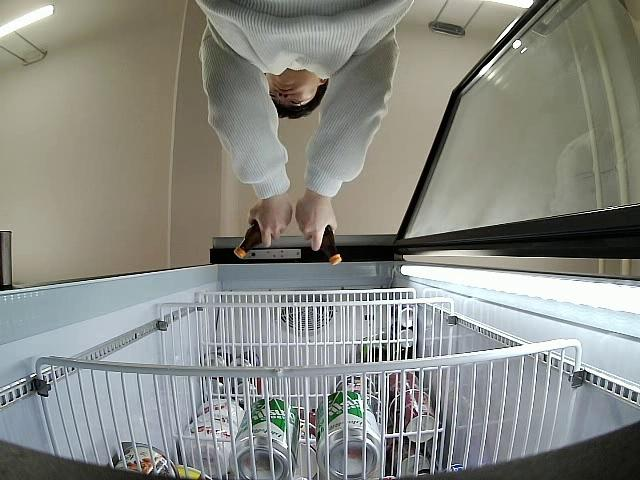00_hand: (295, 193, 337, 251), (247, 196, 294, 247)
17_vita500: (317, 223, 341, 268), (235, 224, 262, 259)
